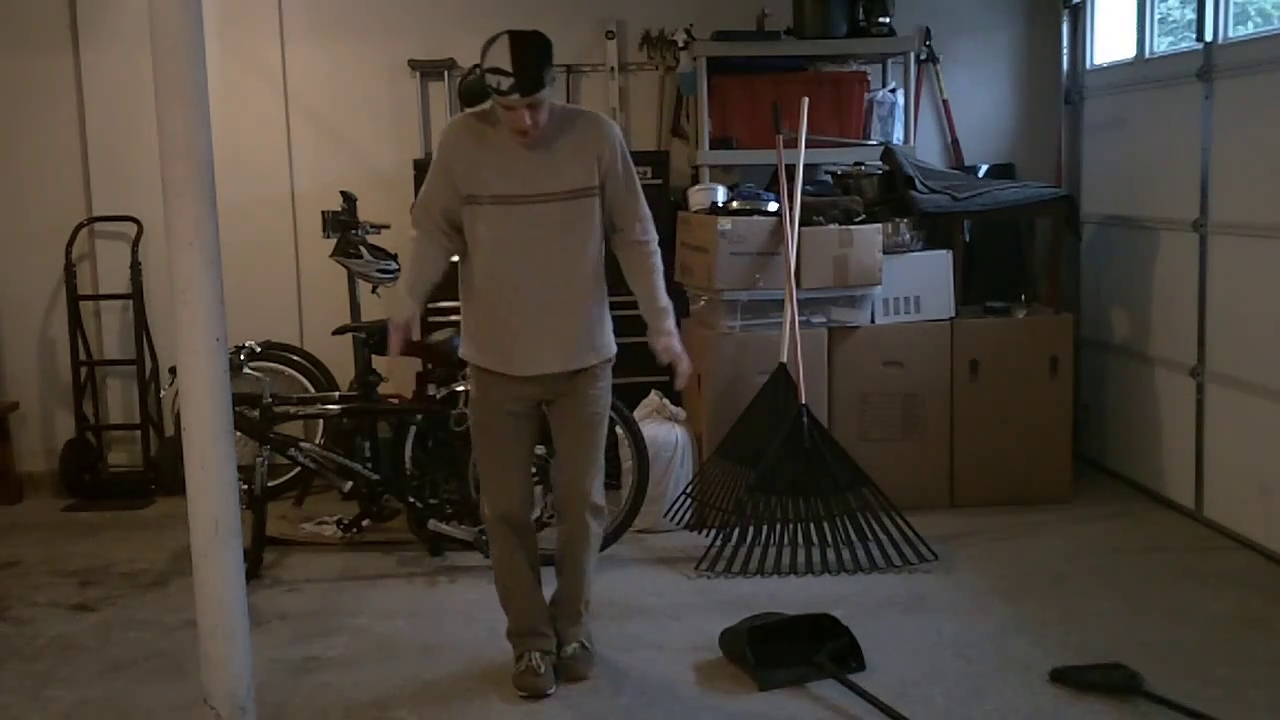person: (387, 29, 694, 699)
